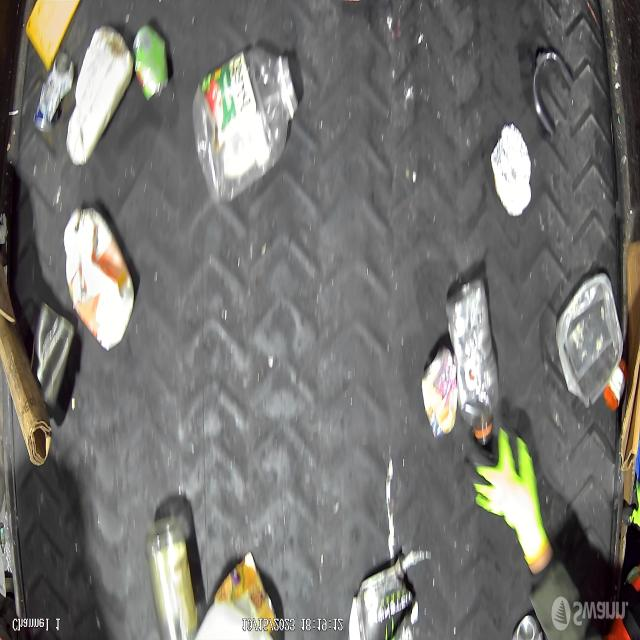can: (30, 304, 75, 408), (421, 342, 459, 440), (34, 56, 74, 135), (132, 24, 170, 104), (512, 612, 541, 640)
non_white_jug: (63, 207, 135, 353)
plastic_bottle: (191, 48, 301, 206), (448, 274, 498, 444)
